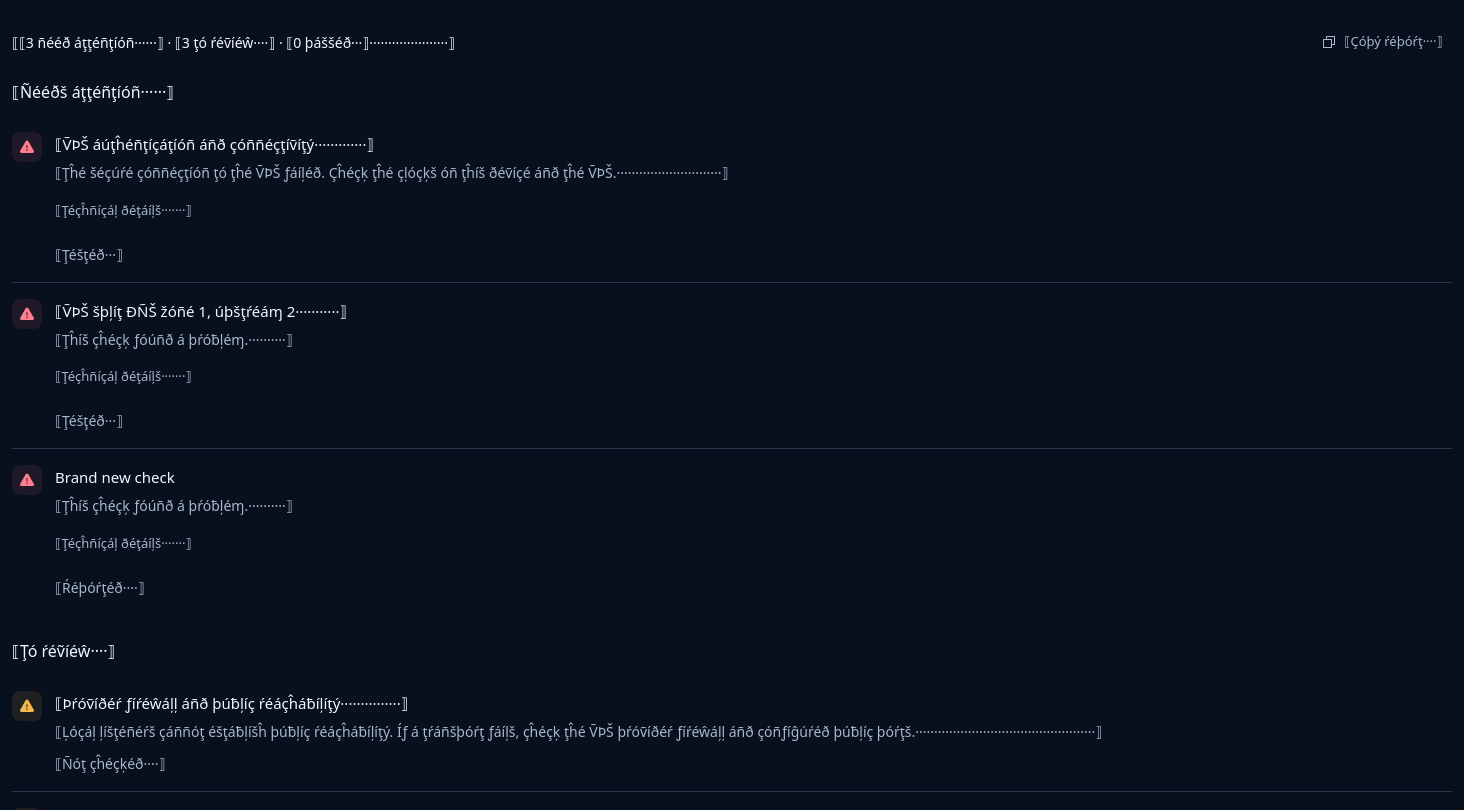
Test: says each finding in the interface language from its message key, and an unknown one by its cause, the English behind Technical details
Expected: the element with class "diagnostic-row" does not show "The private TLS handshake failed."
Click the 2nd button: (124, 210) left=55, top=186, right=192, bottom=234
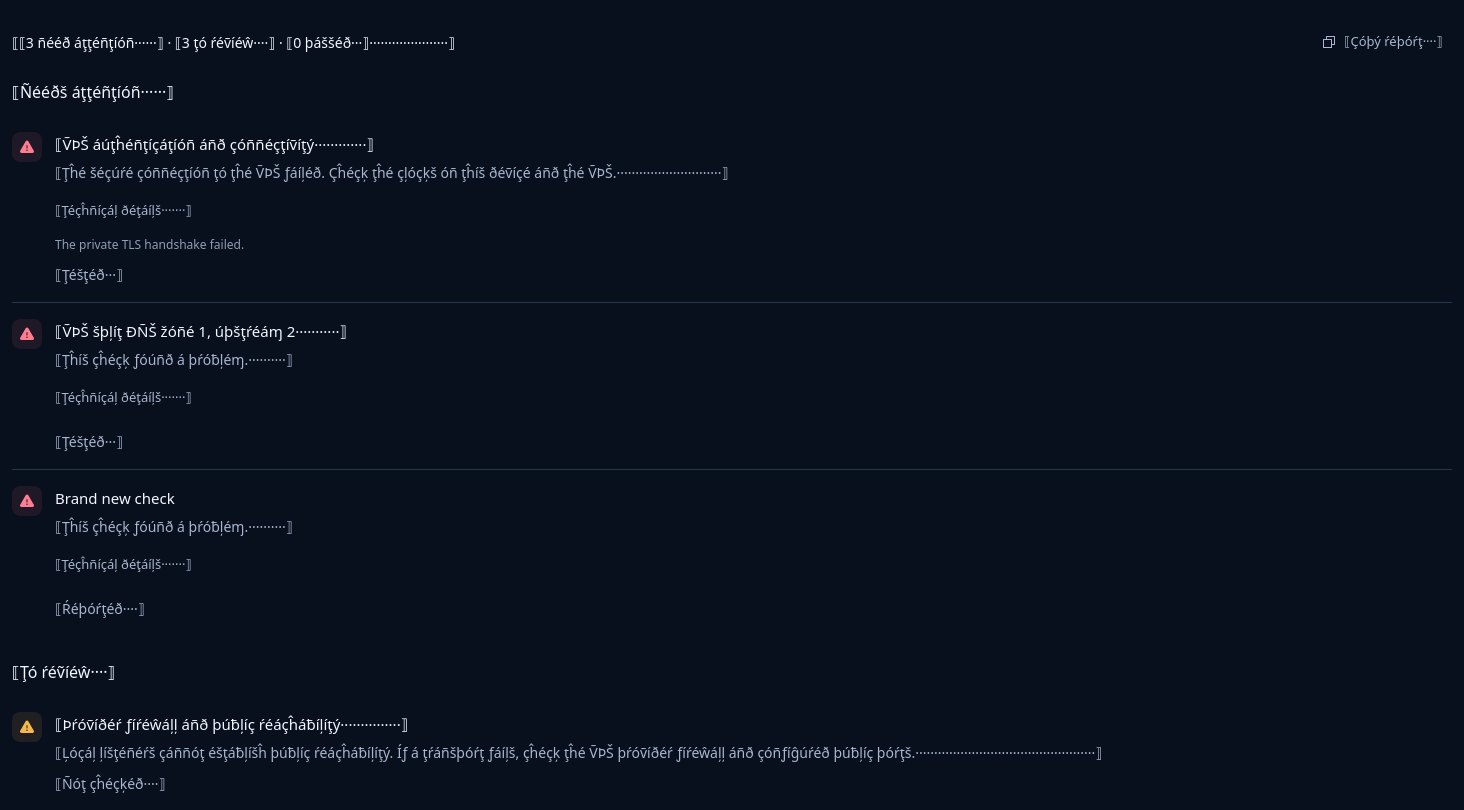
Expected: the 2nd element with class "diagnostic-row" is shown, left=12, top=303, right=1452, bottom=470
Result: the element with class "diagnostic-row" shows "The private TLS handshake failed." at left=55, top=236, right=244, bottom=253
